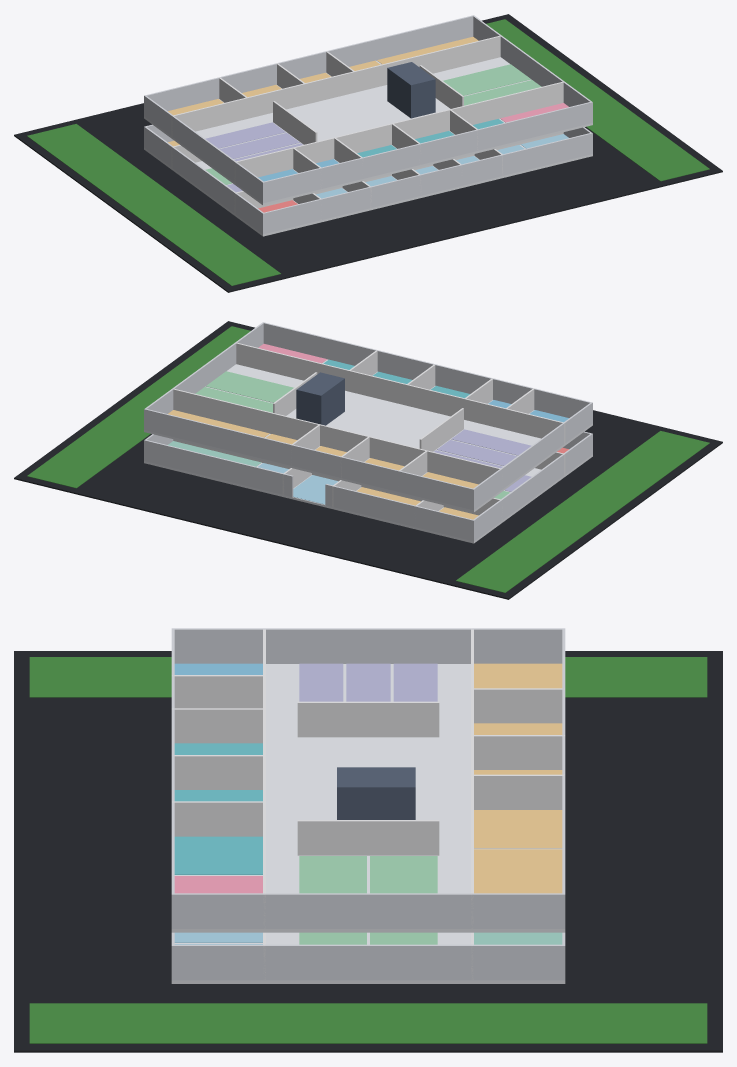
The model's file is City_General_Hospital_3D.obj.
3 renders of one model, top to bottom at view 1: azimuth 30°, elevation 25°; view 2: azimuth 150°, elevation 25°; view 3: azimuth 270°, elevation 25°, orthographic. The views are drawn at different scales.
Size of the model in its own units: 60 by 7.85 by 45.
